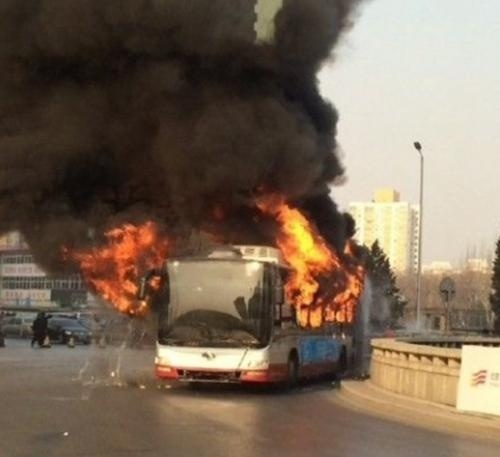fire: (259, 194, 366, 325), (64, 217, 170, 314)
